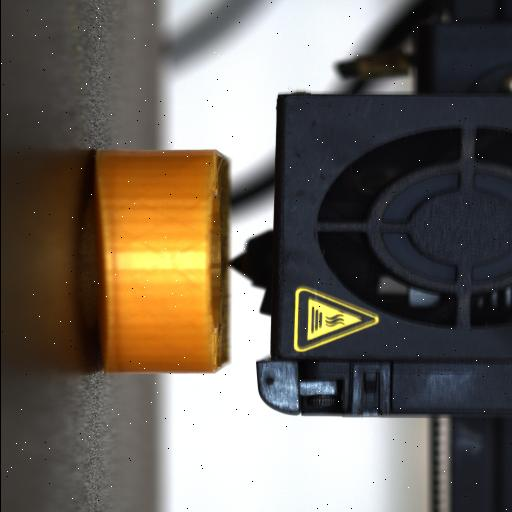warp: (92, 153, 118, 365)
